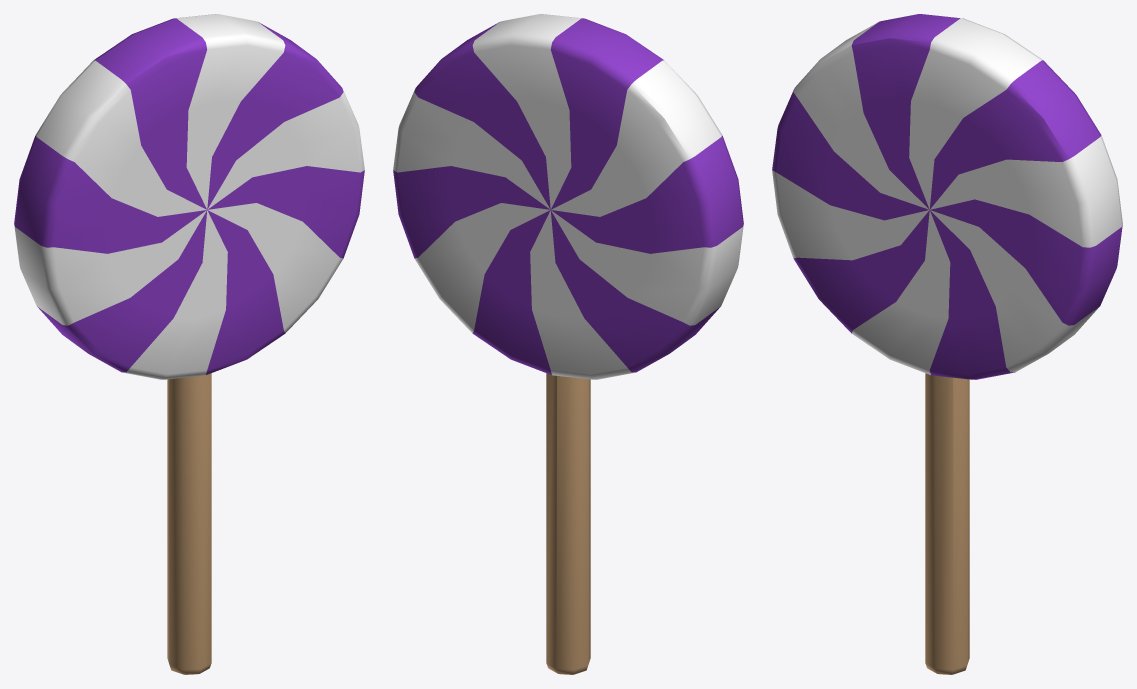
File: lollipopA.glb
3 views of the same model, side by side, from view 1: azimuth 30°, elevation 25°; view 2: azimuth 150°, elevation 25°; view 3: azimuth 330°, elevation 25° (orthographic).
Parts seen in each view (by area): view 1: lollipopA; view 2: lollipopA; view 3: lollipopA.
Boxes of the visible parts, x1,y1,x2,y2 form: lollipopA: (14, 14, 364, 674); lollipopA: (393, 14, 743, 674); lollipopA: (772, 14, 1122, 674).
Bounding box in the file's own units: 0.2264 × 0.4291 × 0.0432.
